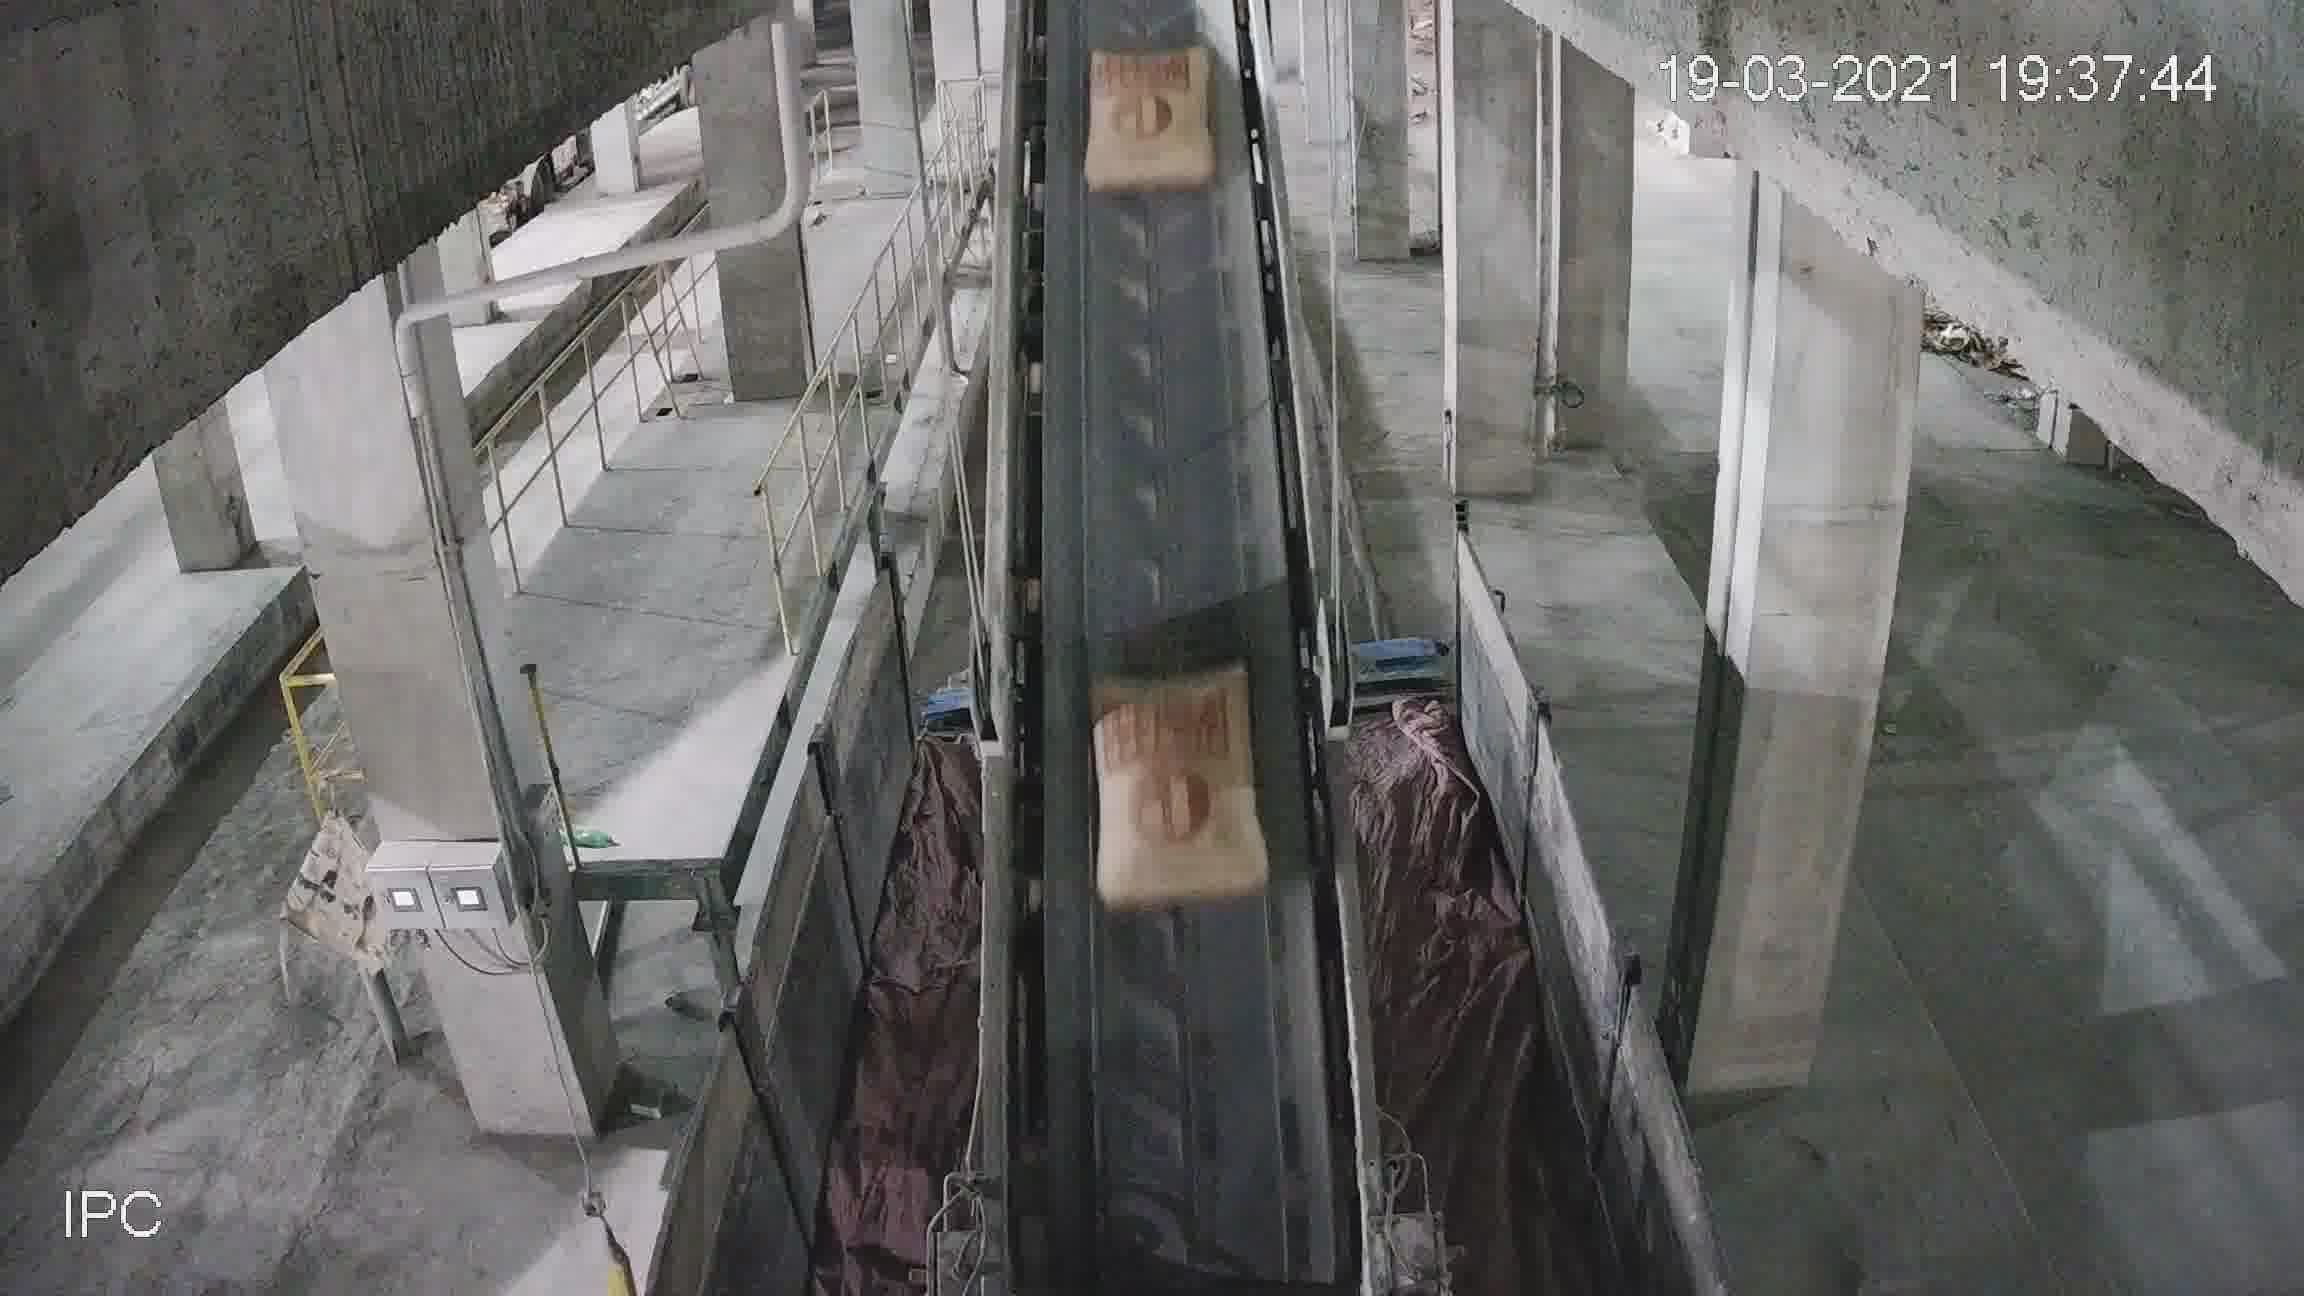bag: (1097, 668, 1264, 915), (1086, 46, 1215, 195)
belt: (987, 93, 1348, 1155)
